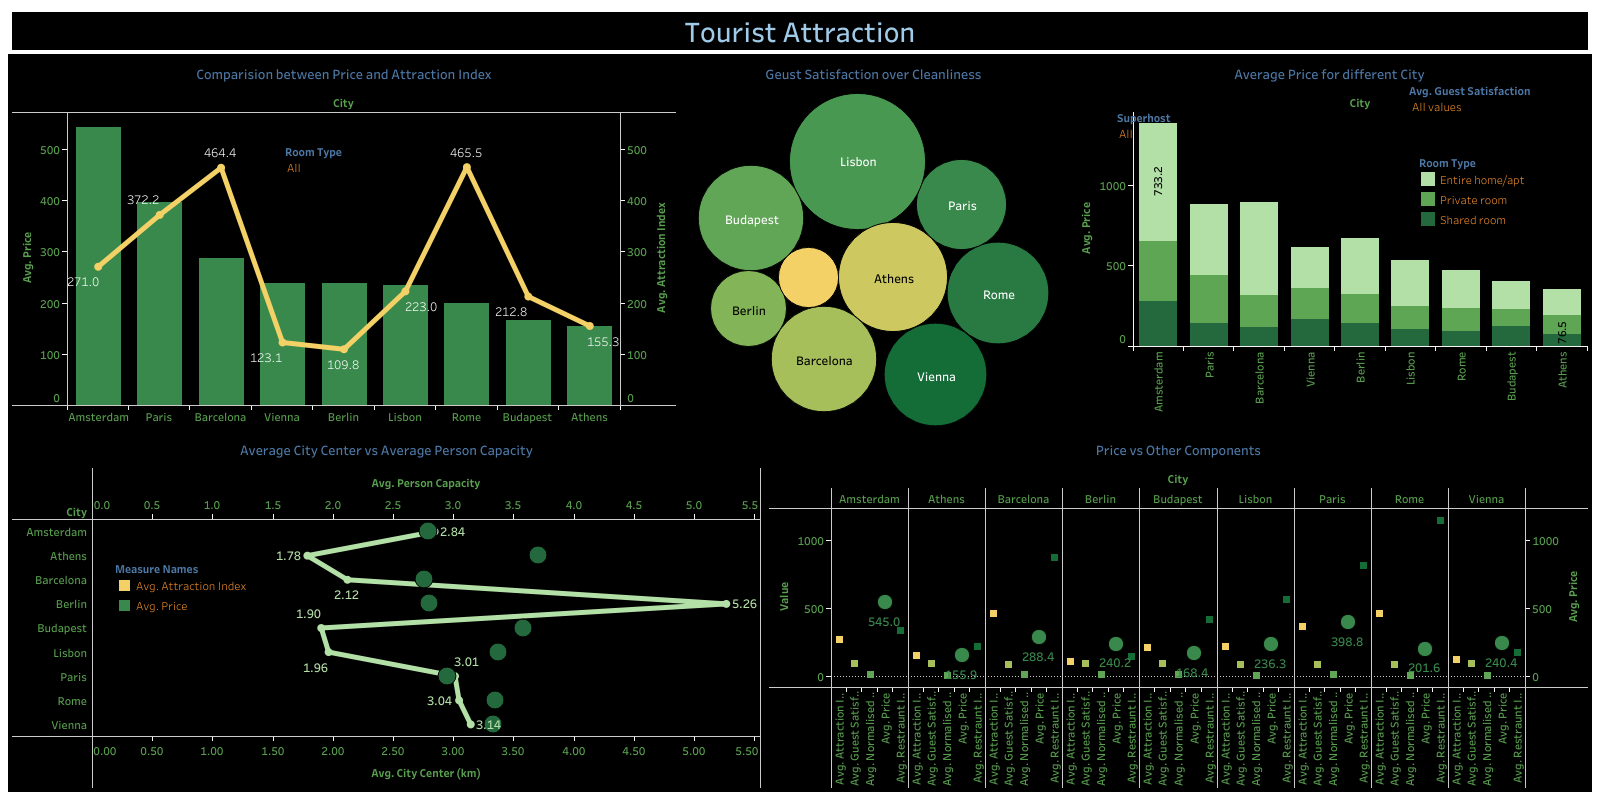

Layout of this report page (visuals, bound fields, positions):
{"tool":"tableau","page":{"name":"Dashboard 1","canvas":[1000,800],"ordinal":0},"visuals":[{"type":"worksheet","title":"Price vs Attraction","mark":"Automatic","rows":["Price","Attraction Index"],"cols":["City"],"box":[8,8,824,392]},{"type":"legend","title":"Price vs Attraction","param":"[federated.1n4p3tg0olhu5216dndq80go865i].[:Measure Names]","box":[840,86,147,58]},{"type":"filter","title":"Geust Satisfaction","param":"[federated.1n4p3tg0olhu5216dndq80go865i].[none:Room Type:nk]","box":[838,161,155,52]},{"type":"filter","title":"Geust Satisfaction","param":"[federated.1n4p3tg0olhu5216dndq80go865i].[none:Superhost:nk]","box":[841,254,150,52]},{"type":"filter","title":"Geust Satisfaction","param":"[federated.1n4p3tg0olhu5216dndq80go865i].[avg:Guest Satisfaction:qk]","box":[843,351,151,69]},{"type":"worksheet","title":"Average Price","mark":"Bar","rows":["Price"],"cols":["City"],"box":[8,400,412,392]},{"type":"worksheet","title":"Geust Satisfaction","mark":"Circle","box":[420,400,412,392]},{"type":"filter","title":"Average Price","param":"[federated.1n4p3tg0olhu5216dndq80go865i].[none:Day:nk]","box":[850,458,143,89]},{"type":"legend","title":"Average Price","param":"[federated.1n4p3tg0olhu5216dndq80go865i].[none:Room Type:nk]","box":[239,471,140,78]},{"type":"legend","title":"Geust Satisfaction","param":"[federated.1n4p3tg0olhu5216dndq80go865i].[none:City:nk]","box":[848,588,140,198]}]}

Visuals, with their boxes on the page's 1000x800 design canvas (x1, y1, x2, y2). These are canvas units, not pixel positions in the 1599x799 screenshot, which may show the page scaled, cropped or inside an application window:
"Price vs Attraction" worksheet: <box>8,8,832,400</box>
"Price vs Attraction" legend: <box>840,86,987,144</box>
"Geust Satisfaction" filter: <box>838,161,993,213</box>
"Geust Satisfaction" filter: <box>841,254,991,306</box>
"Geust Satisfaction" filter: <box>843,351,994,420</box>
"Average Price" worksheet (Bar marks): <box>8,400,420,792</box>
"Geust Satisfaction" worksheet (Circle marks): <box>420,400,832,792</box>
"Average Price" filter: <box>850,458,993,547</box>
"Average Price" legend: <box>239,471,379,549</box>
"Geust Satisfaction" legend: <box>848,588,988,786</box>
